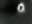person: (22, 2, 26, 16), (18, 4, 22, 16)
